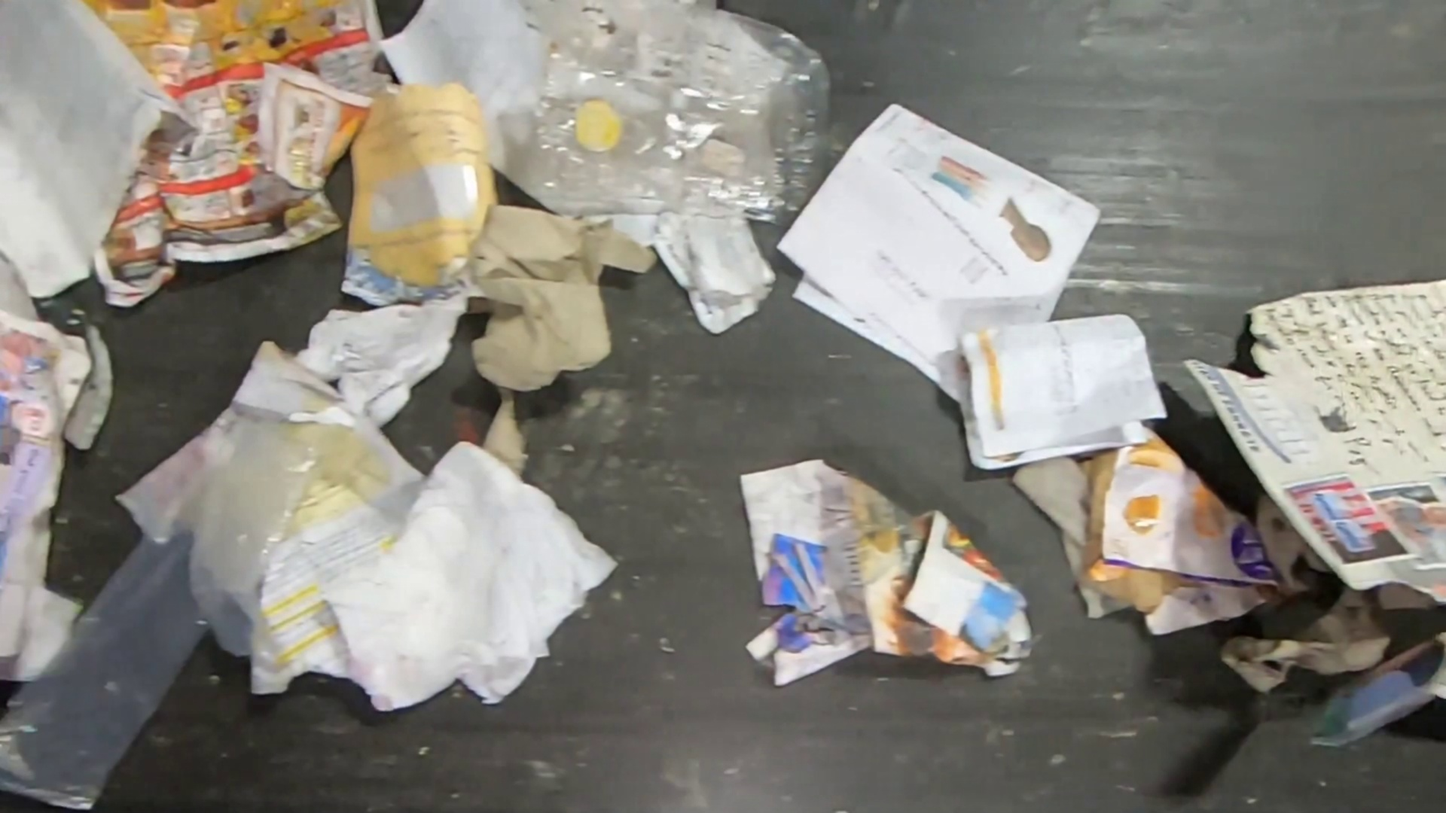plastic: (0, 415, 326, 811), (524, 0, 834, 221)
